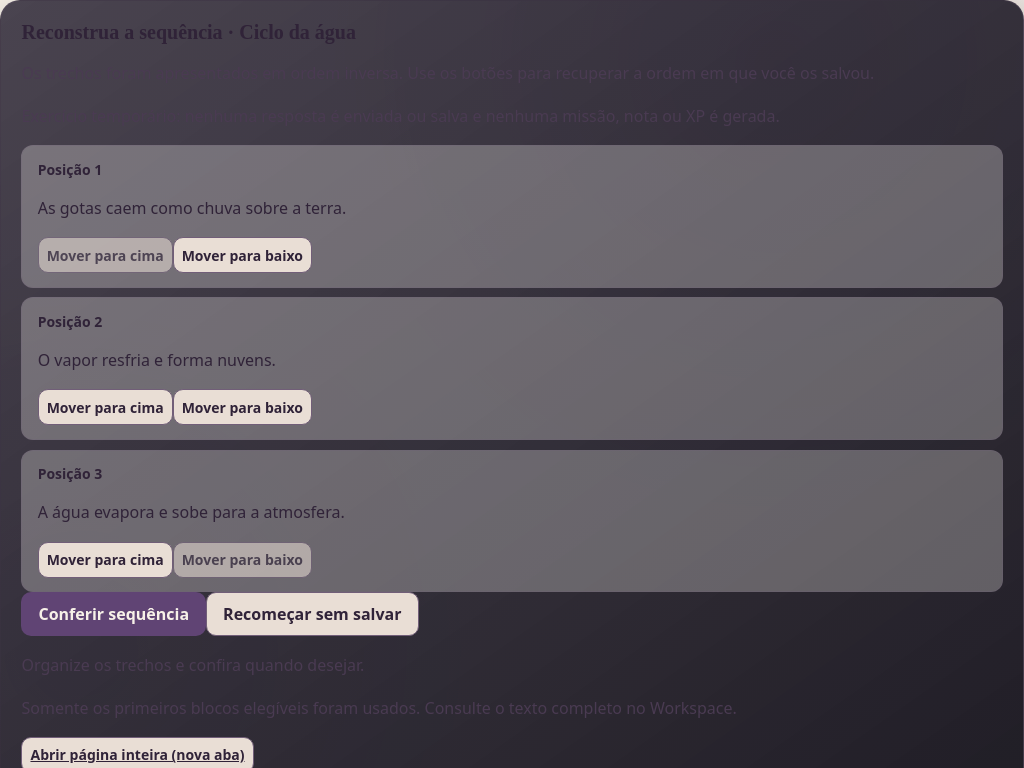
Scenario: BlockSequencePractice › reorders real saved passages and gives temporary nonpunitive feedback
Expected: the list named "Trechos para organizar" shows "As gotas caem como chuva sobre a terra.", 38,197 -> 346,219
Click the button "Conferir sequência".
click(114, 614)  # box 22,592 -> 206,636
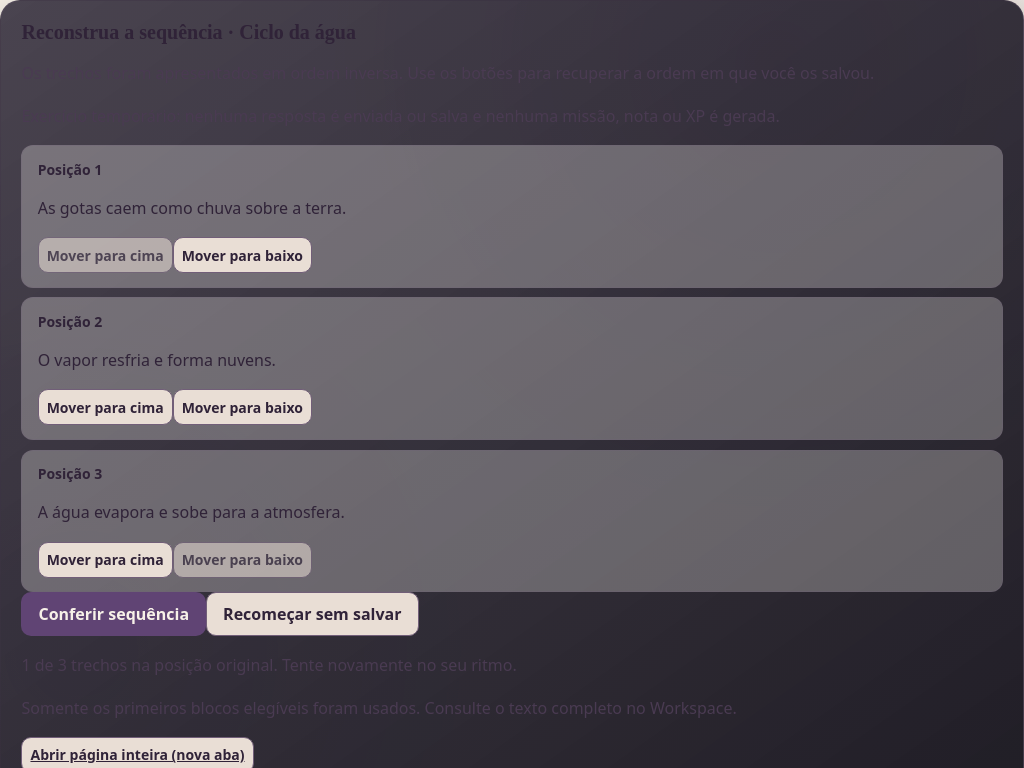
Now the message shows "1 de 3 trechos", box 22,654 -> 517,676
Click the button with aria-label "Mover trecho da posição 3 para cima".
click(105, 560)  # box 38,542 -> 173,578
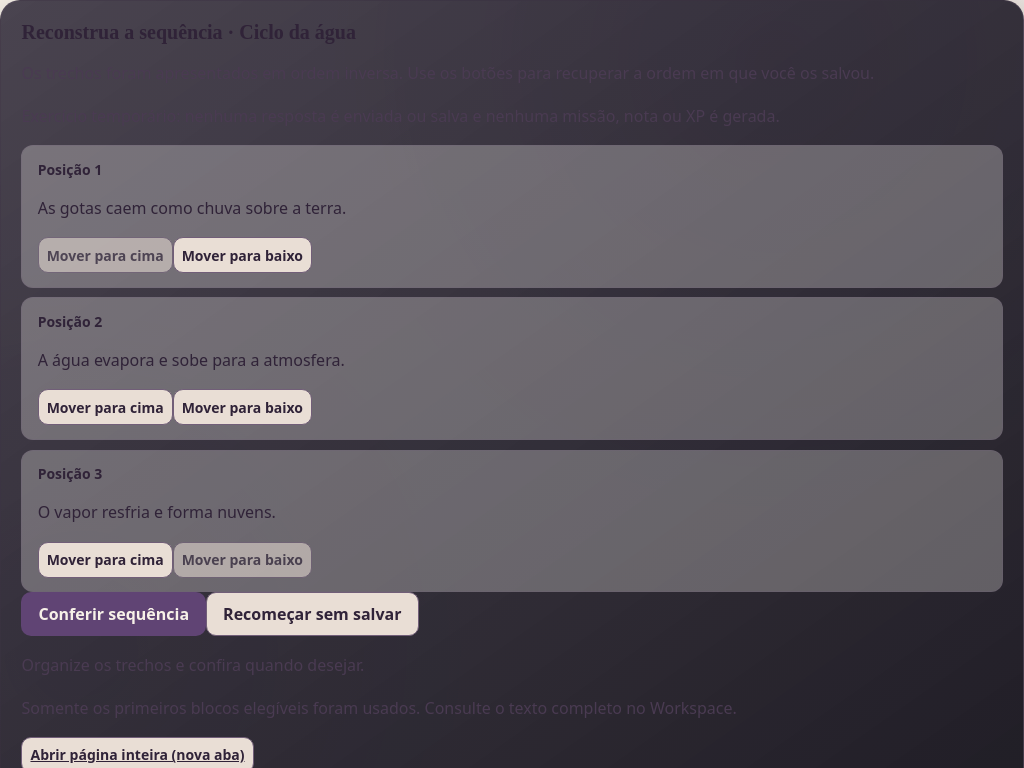
Click the button with aria-label "Mover trecho da posição 2 para cima".
click(105, 407)  # box 38,389 -> 173,425
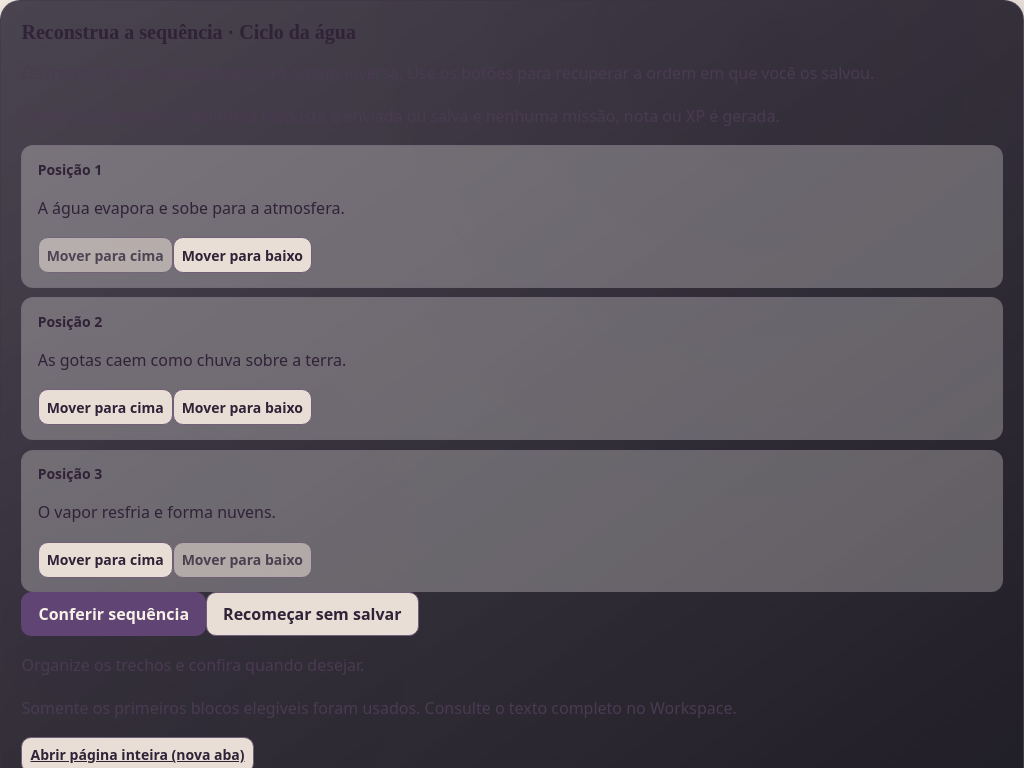
Click the button with aria-label "Mover trecho da posição 3 para cima".
click(105, 560)  # box 38,542 -> 173,578
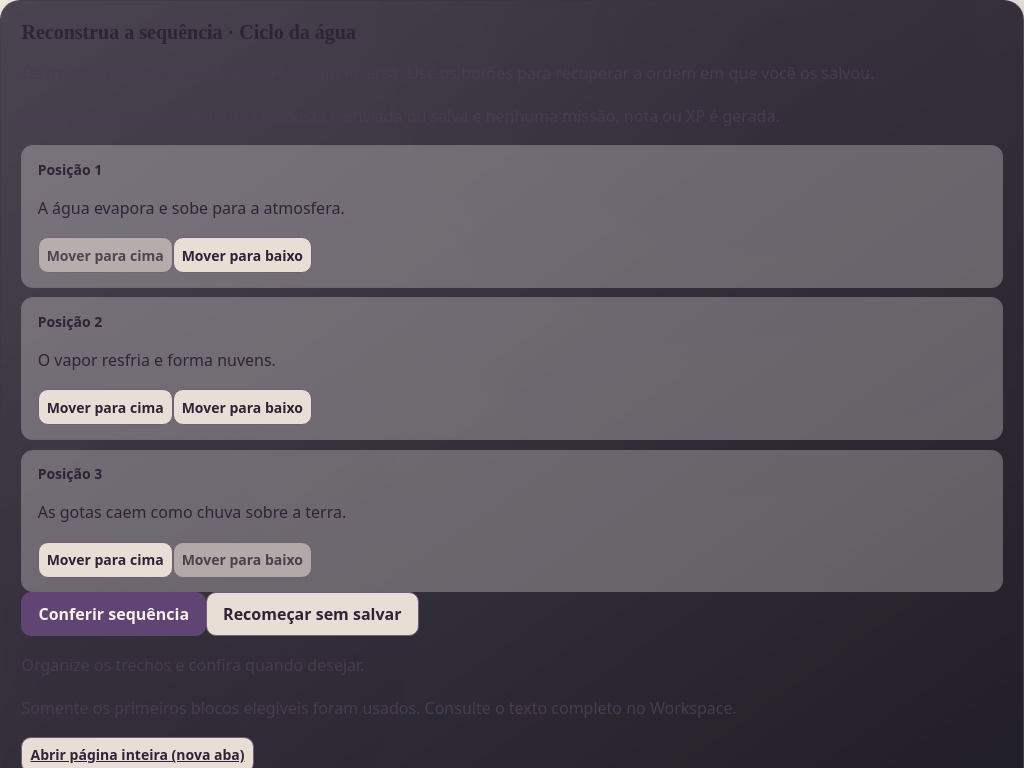
Click the button "Conferir sequência".
click(114, 614)  # box 22,592 -> 206,636
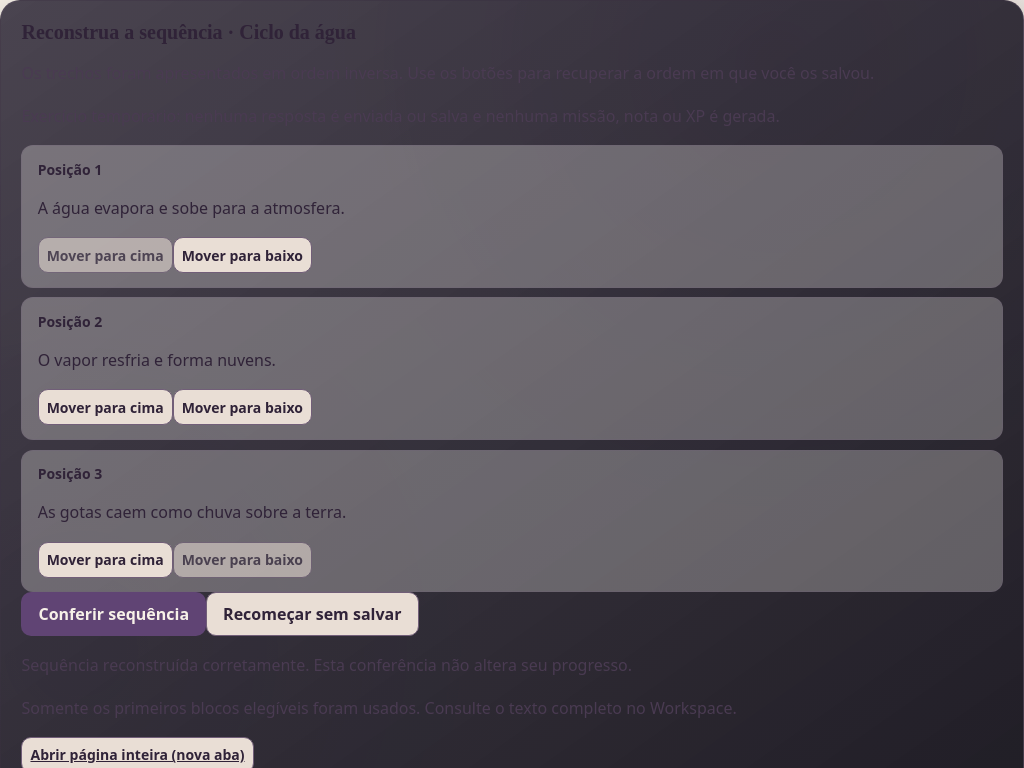
Now the message shows "Sequência reconstruída corretamente", box 22,654 -> 632,676
Click the button "Recomeçar sem salvar".
click(312, 614)  # box 206,592 -> 418,636
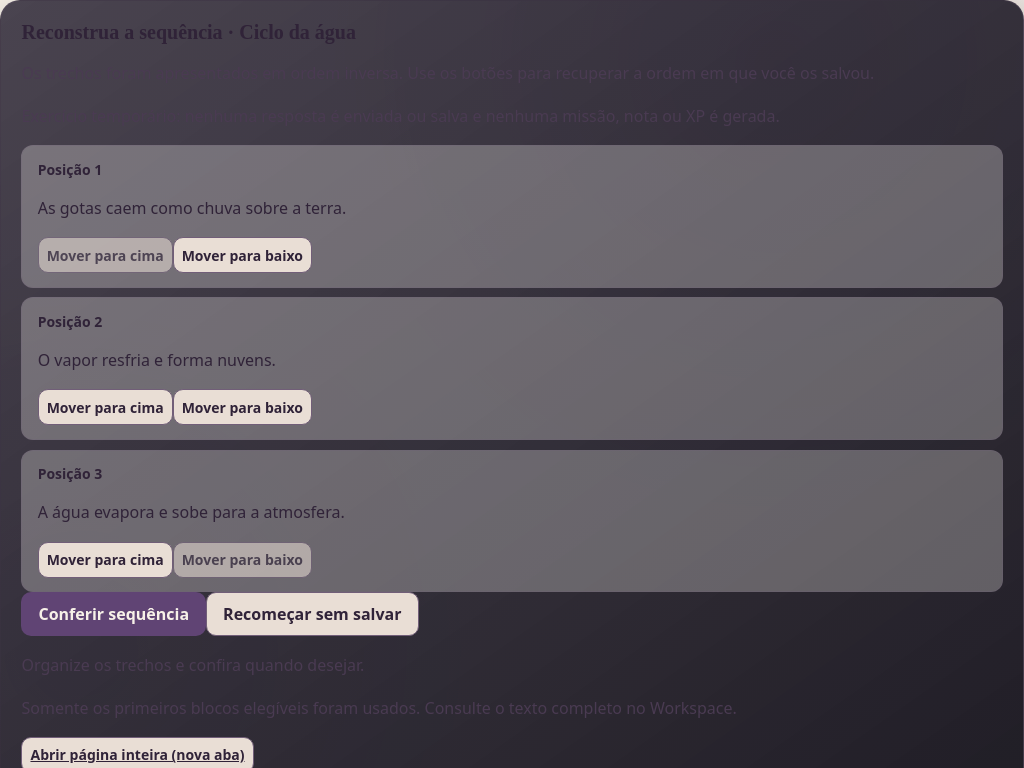
Now the message shows "Organize os trechos", box 22,654 -> 364,676
